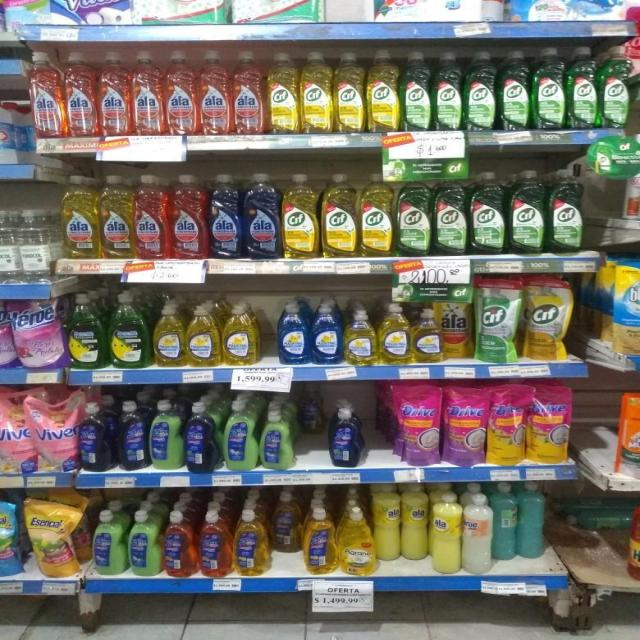ala_conc_amarillo: (61, 174, 98, 260), (100, 174, 132, 260)
ala_conc_azul: (243, 172, 280, 260), (208, 173, 242, 260)
ala_conc_rojo: (170, 173, 207, 260), (134, 173, 169, 260), (31, 50, 64, 138), (198, 51, 231, 136), (165, 50, 197, 136), (98, 51, 130, 137), (232, 50, 264, 135), (65, 51, 96, 138), (132, 50, 163, 136)
ala_crem_amarillo: (430, 487, 461, 575), (402, 482, 428, 564), (375, 482, 400, 564)
ala_sachet_amarillo: (629, 498, 640, 583)
cif_conc_bot_amarilla: (282, 172, 319, 260), (322, 172, 358, 259), (359, 172, 393, 258), (366, 49, 399, 133), (300, 51, 332, 134), (267, 52, 299, 134), (334, 51, 364, 133)
cif_conc_botella_verde: (508, 168, 546, 255), (548, 167, 585, 255), (469, 170, 506, 256), (396, 175, 431, 257), (532, 46, 565, 131), (433, 174, 467, 256), (567, 45, 598, 130), (464, 51, 496, 131), (600, 45, 630, 130), (499, 49, 530, 131), (401, 51, 431, 132), (433, 52, 462, 132), (632, 44, 640, 130)
cif_conc_sachet_amarillo: (524, 274, 574, 362)
cif_conc_sachet_verde: (474, 276, 522, 364)
drive: (396, 383, 440, 467), (443, 385, 487, 467), (489, 384, 527, 466), (0, 392, 32, 474)
heroe: (462, 488, 493, 574)
magistral_con_amarillo: (222, 303, 259, 366), (152, 302, 185, 368), (186, 304, 220, 367), (378, 303, 411, 365), (344, 308, 377, 366), (412, 307, 443, 363)
magistral_con_azul: (277, 302, 309, 365), (311, 302, 342, 365)
magistral_con_verde: (108, 291, 148, 369), (68, 292, 105, 370)
odex: (338, 503, 374, 575)
zorro: (222, 398, 258, 472), (260, 400, 295, 470), (185, 400, 218, 473), (233, 509, 268, 577), (149, 399, 182, 471), (91, 509, 125, 577), (197, 511, 231, 578), (80, 401, 112, 472), (162, 511, 195, 578), (127, 510, 160, 577), (304, 506, 336, 575), (116, 400, 147, 470), (270, 492, 301, 552)
